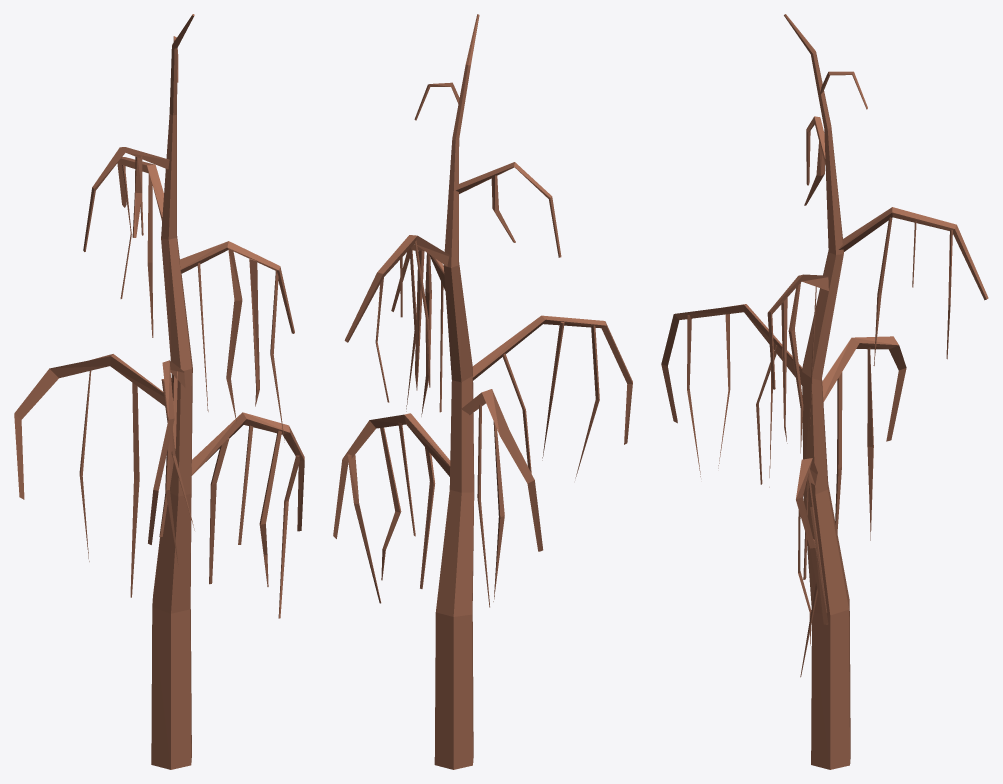
The model's file is mangrove2.obj.
3 renders of one model, left to right at view 1: azimuth 30°, elevation 25°; view 2: azimuth 150°, elevation 25°; view 3: azimuth 270°, elevation 25°, orthographic. The views are drawn at different scales.
Bounding box in the file's own units: 5.27 × 15.34 × 6.1.
